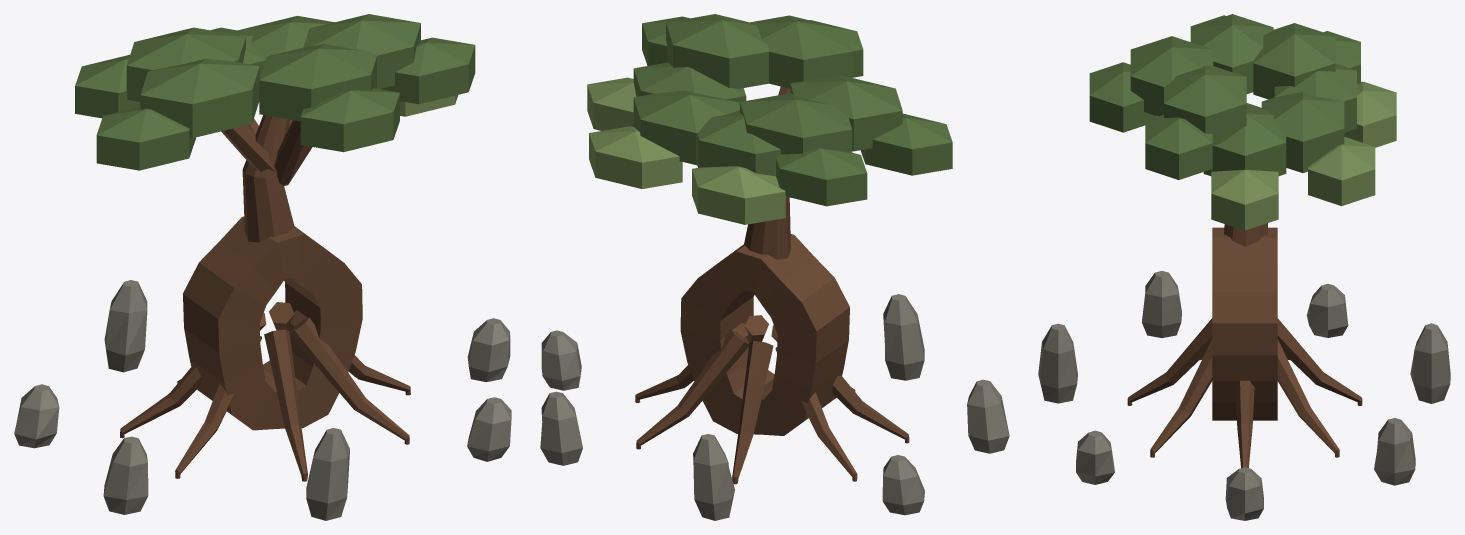
File: Environment_Landmark_OldTreeCircle_001_LOD1.glb
The picture shows the model from 3 angles, left to right: view 1: azimuth 30°, elevation 25°; view 2: azimuth 150°, elevation 25°; view 3: azimuth 270°, elevation 25°; orthographic projection. The views are drawn at different scales.
Visible parts, largest first — view 1: Environment_Landmark_OldTreeCircle_001_LOD1; view 2: Environment_Landmark_OldTreeCircle_001_LOD1; view 3: Environment_Landmark_OldTreeCircle_001_LOD1.
Part boxes in pixels (x1=…): Environment_Landmark_OldTreeCircle_001_LOD1: x1=14, y1=14, x2=511, y2=520; Environment_Landmark_OldTreeCircle_001_LOD1: x1=540, y1=14, x2=1009, y2=520; Environment_Landmark_OldTreeCircle_001_LOD1: x1=1038, y1=14, x2=1450, y2=520.
Bounding box in the file's own units: 11.81 × 10.15 × 10.13.
